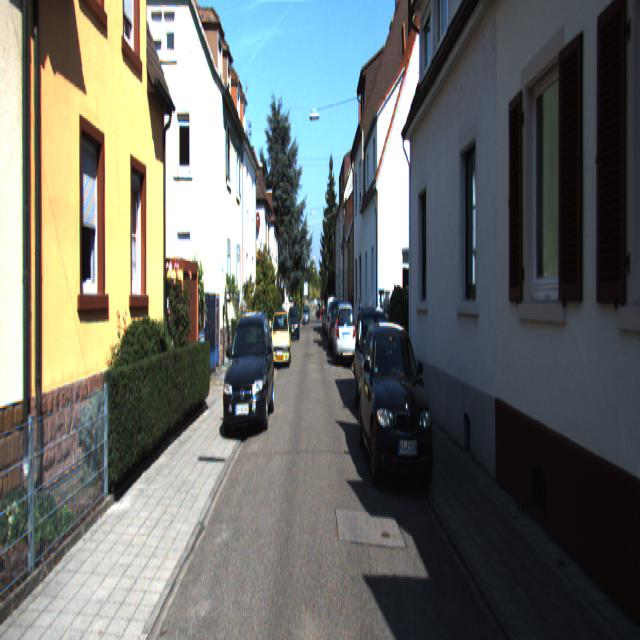Car: (357, 315, 435, 502), (222, 310, 274, 446), (354, 308, 400, 428), (334, 302, 356, 370), (271, 311, 291, 373)
